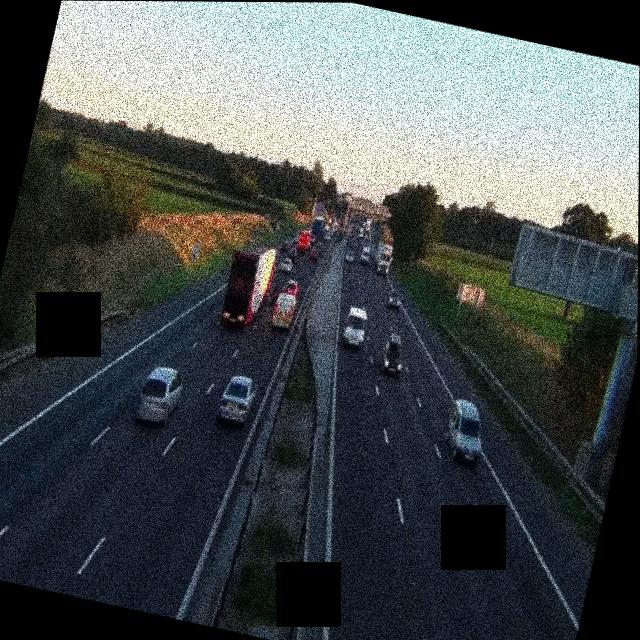car: (440, 396, 491, 466), (133, 363, 187, 429), (216, 372, 258, 427), (339, 305, 370, 349), (379, 331, 407, 377), (385, 288, 402, 311), (279, 255, 293, 273), (359, 249, 372, 267), (307, 246, 319, 262), (286, 244, 298, 260), (344, 248, 355, 263)
truck: (218, 241, 277, 331), (270, 290, 297, 331), (371, 236, 395, 276), (294, 228, 311, 252), (320, 221, 333, 243)
